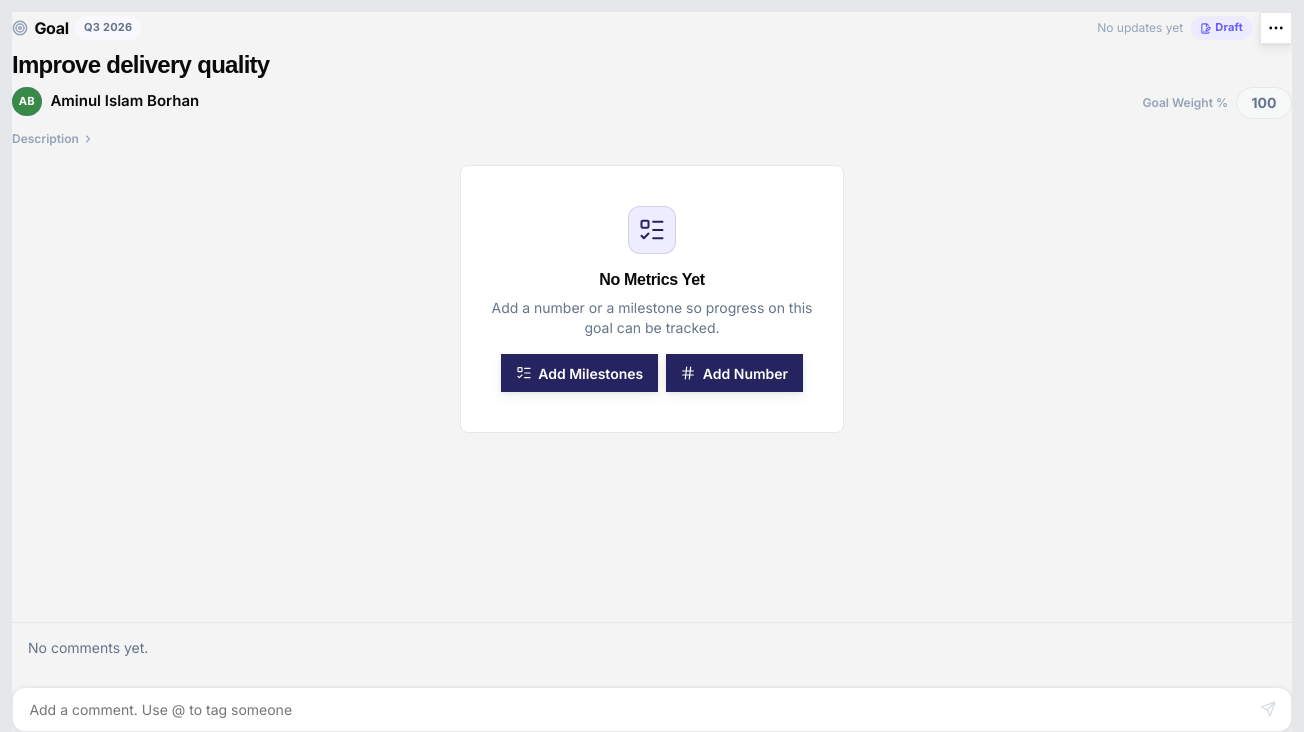
Test: GoalDetailView › opens one edit session for the title and returns to view after save
The image size is (1304, 732).
Expected: the heading "Improve delivery quality" is shown, 12,51 -> 270,78
Expected: the field labelled "Goal name" is not shown
Step 1. Hover over the element named "Goal actions" → [1276, 28], box 1260,12 -> 1292,44
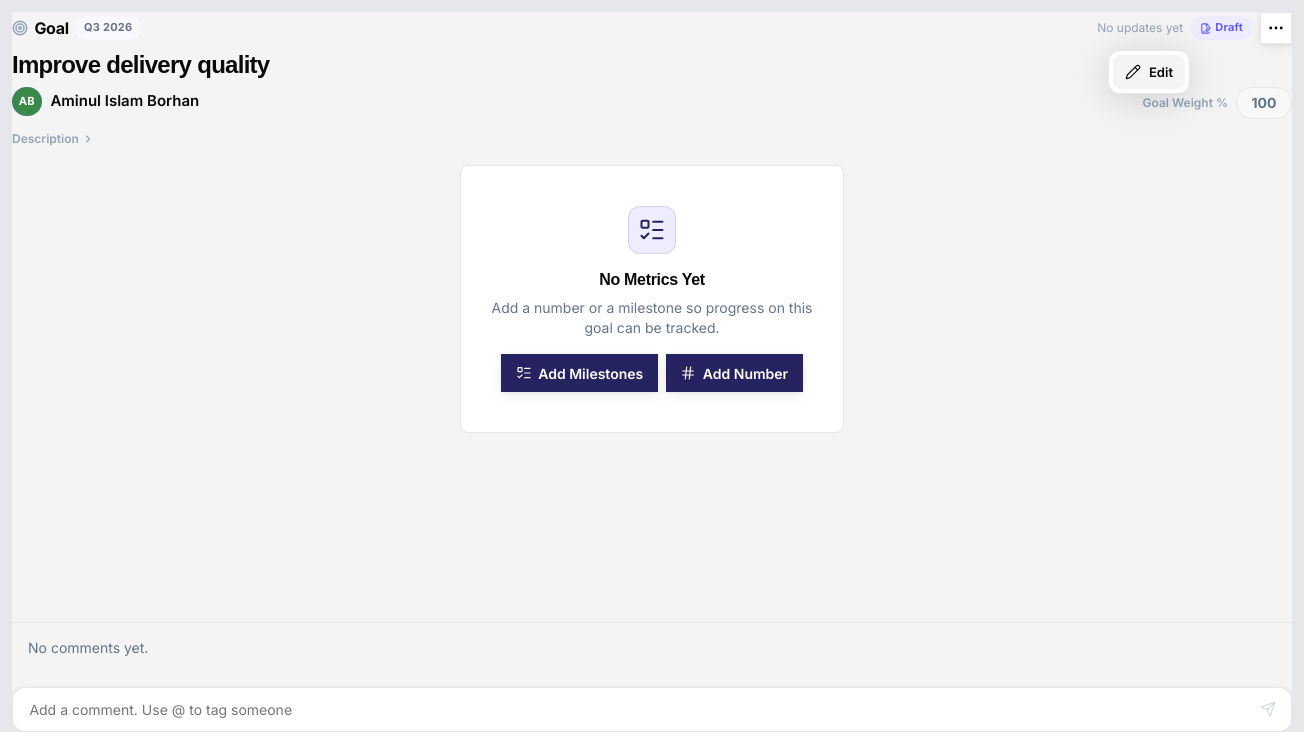
Step 2. Click the menu item "Edit" → [1149, 72], box 1113,55 -> 1185,89
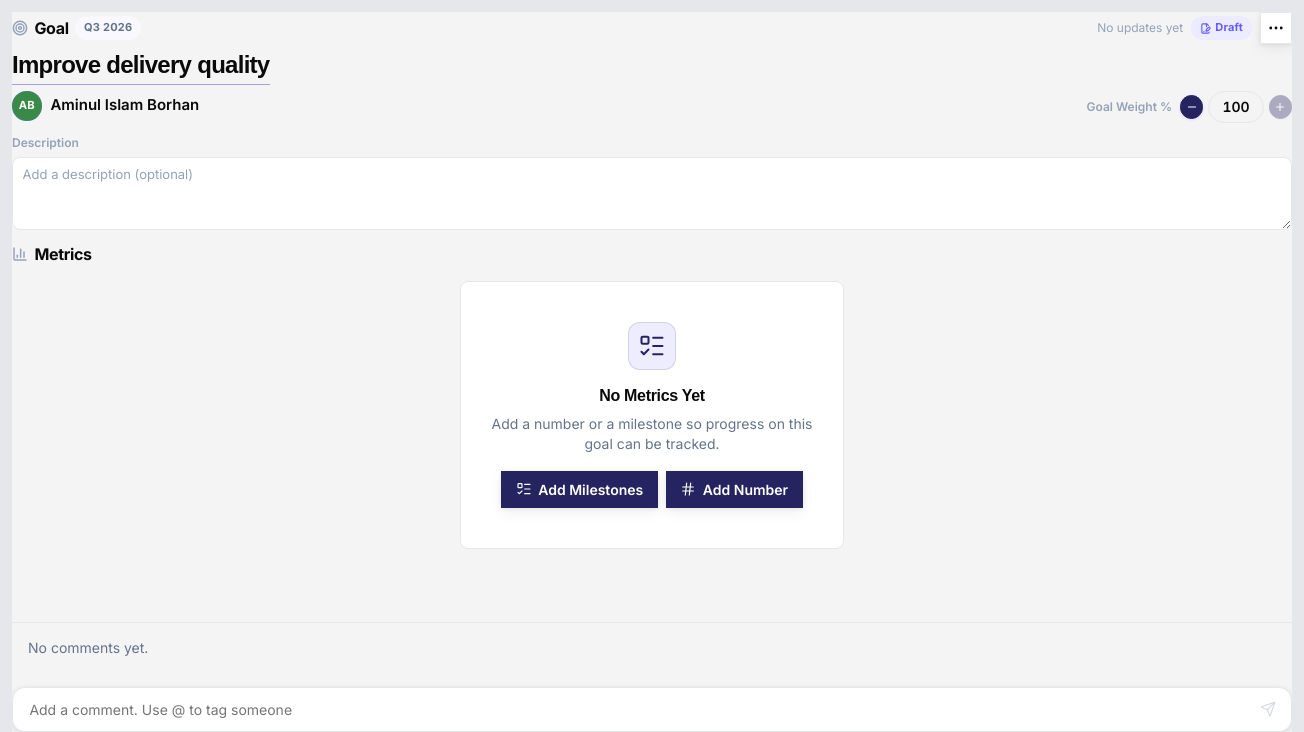
Step 3. Replace the text in the text box named "Goal name" with "Raise the quality bar" → [141, 68], box 12,50 -> 270,85
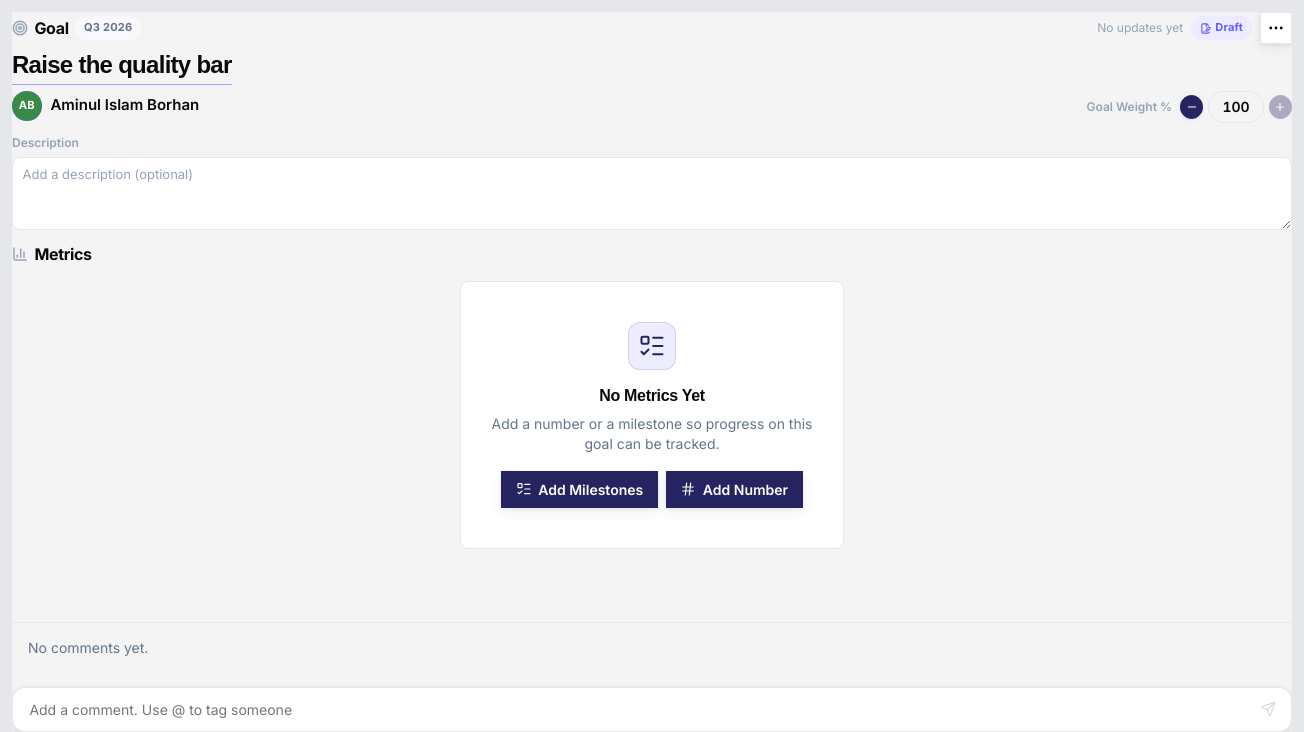
Step 4. Leave the text box named "Goal name", box 12,50 -> 232,85
Step 5. Hover over the element named "Goal actions" next to "Draft" → [1276, 28], box 1260,12 -> 1292,44
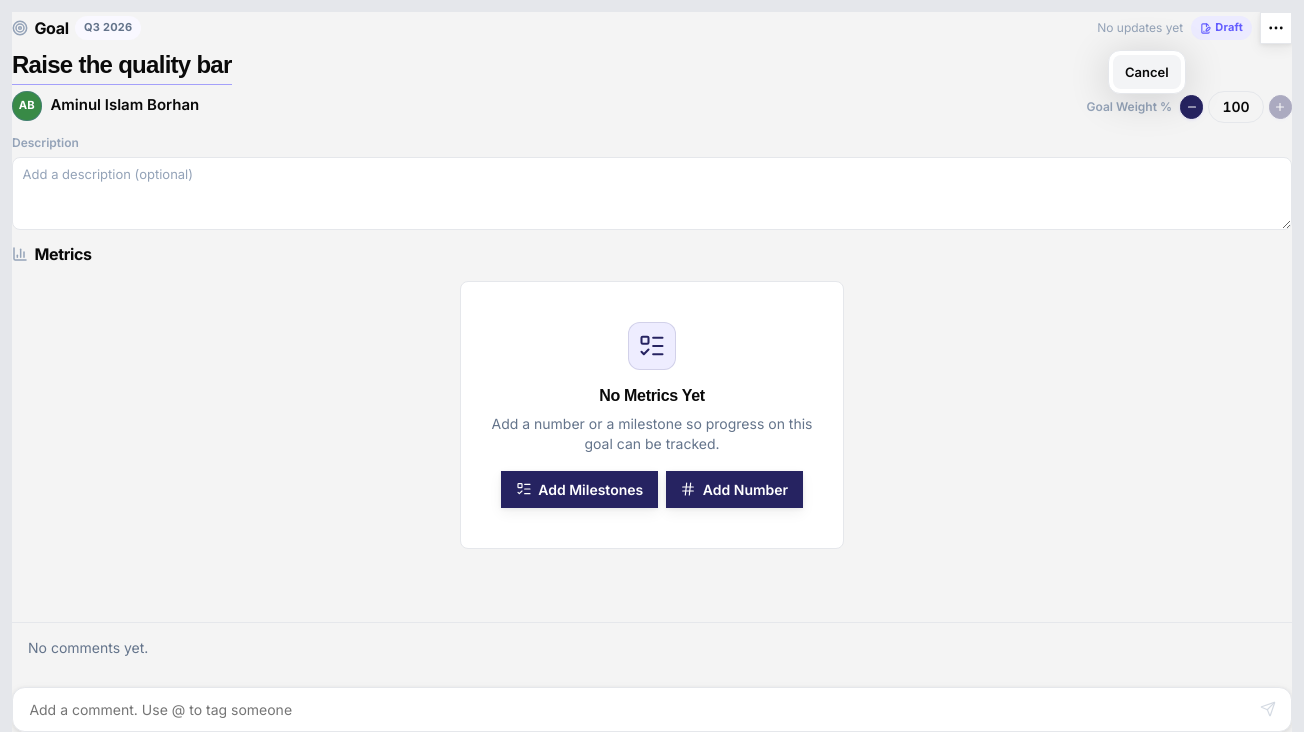
Expected: the menu item "Cancel" is shown
Step 6. Click the menu item "Cancel" → [1147, 72], box 1113,55 -> 1181,89
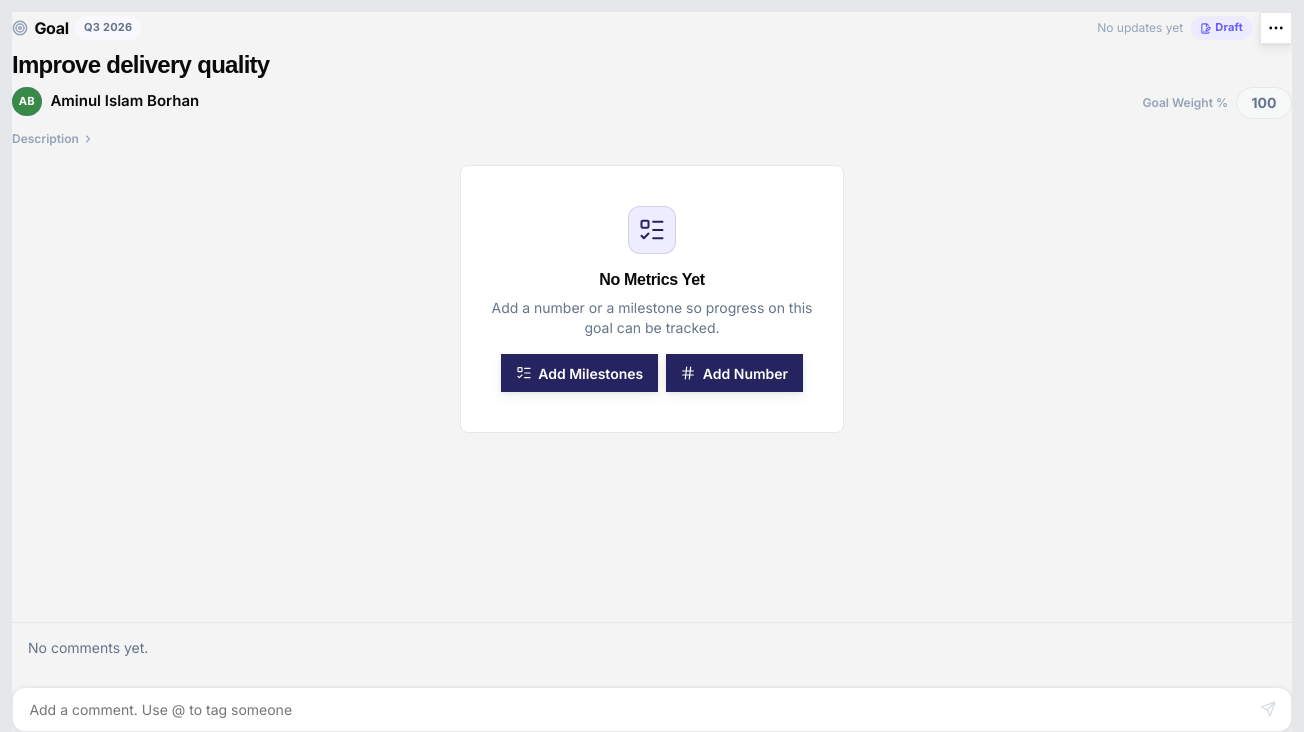
Expected: the field labelled "Goal name" is not shown
Expected: the heading "Improve delivery quality" is shown, 12,51 -> 270,78
Step 7. Hover over the element named "Goal actions" → [1276, 28], box 1260,12 -> 1292,44
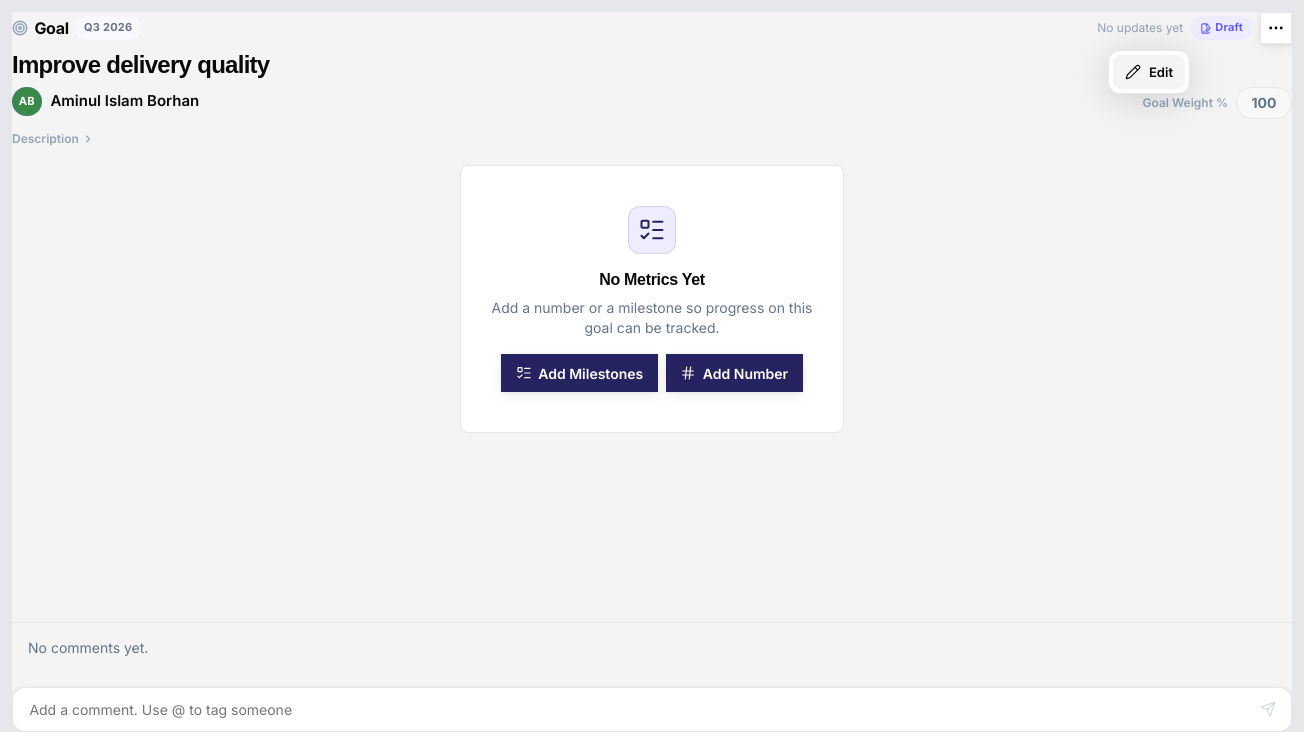
Expected: the menu item "Edit" is shown, 1113,55 -> 1185,89
